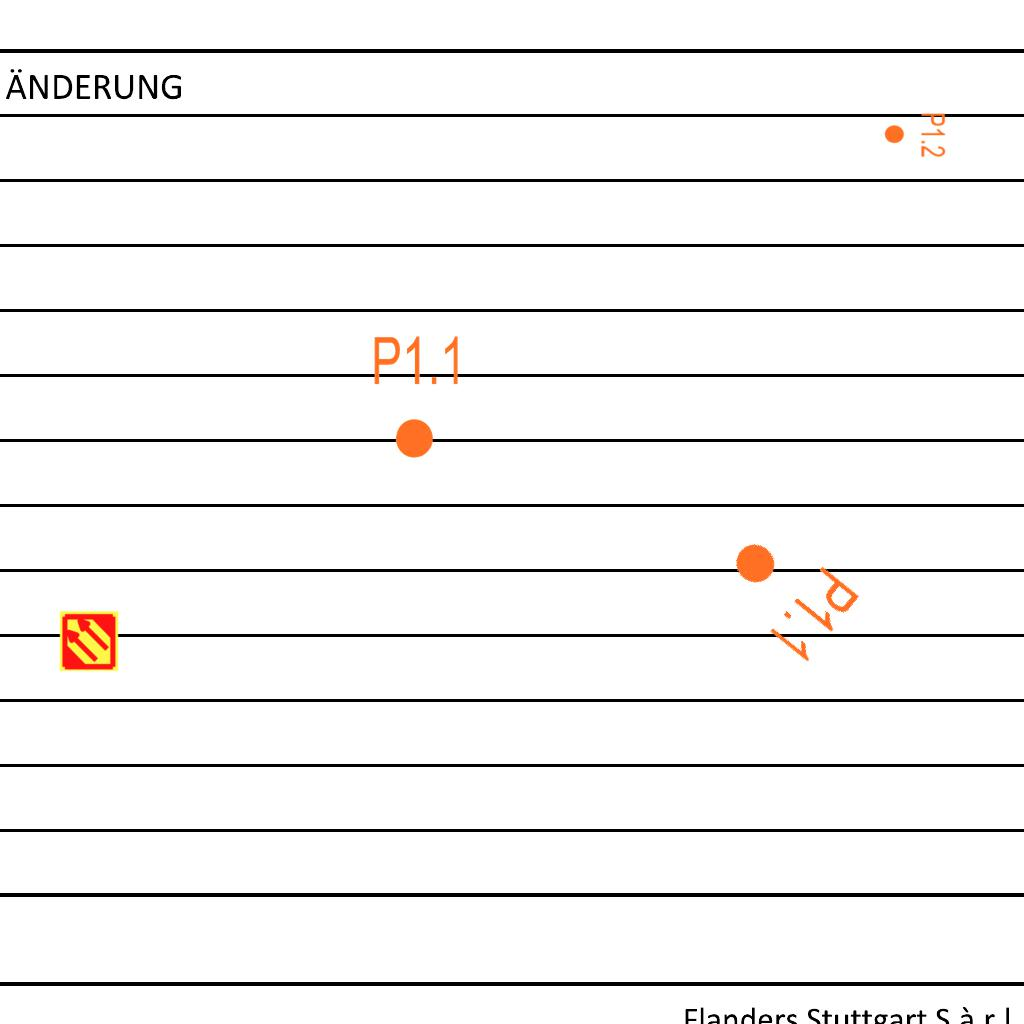ASR_Ansaugrauchmelder: (58, 610, 120, 672)
Downlight_LED_Einbauleuchten_Flur: (706, 515, 865, 669), (371, 333, 464, 461), (883, 112, 947, 158)
